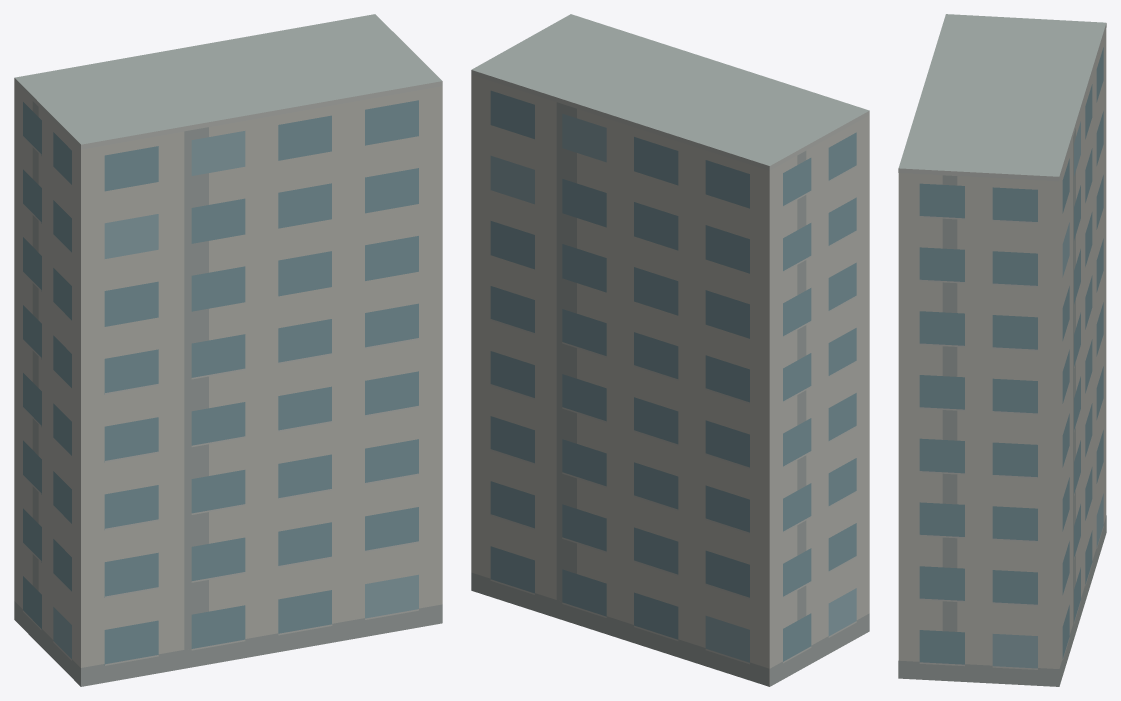
Rendered from survey-upis-32975875.glb.
3 renders of one model, left to right at view 1: azimuth 30°, elevation 25°; view 2: azimuth 150°, elevation 25°; view 3: azimuth 270°, elevation 25°, orthographic. The views are drawn at different scales.
Visible parts, largest first — view 1: survey-upis-32975875.tmp; view 2: survey-upis-32975875.tmp; view 3: survey-upis-32975875.tmp.
Part boxes in pixels (bbox=[...]): survey-upis-32975875.tmp: bbox=[14, 14, 442, 686]; survey-upis-32975875.tmp: bbox=[471, 14, 869, 686]; survey-upis-32975875.tmp: bbox=[898, 14, 1106, 686].
Bounding box in the file's own units: 18.42 × 26.9 × 9.95.
